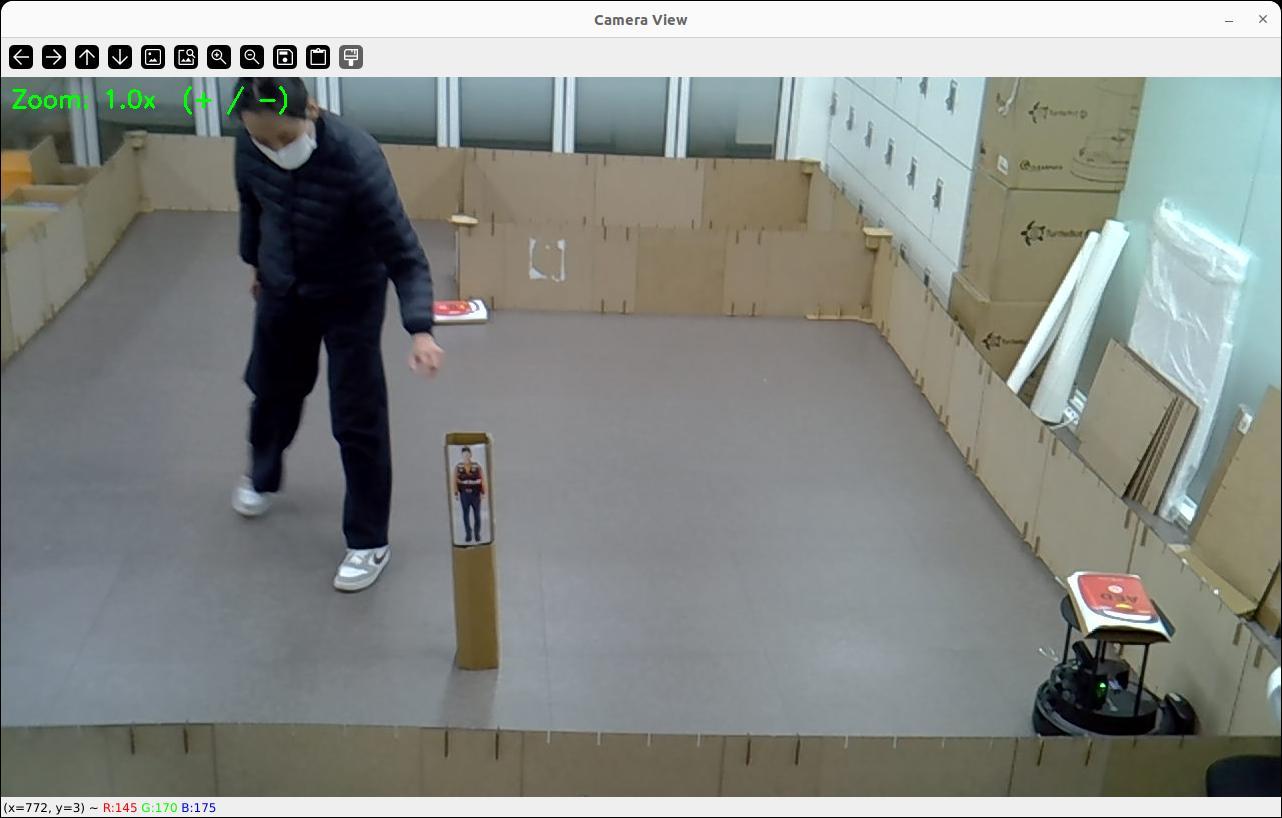Responder: (453, 448, 485, 541)
